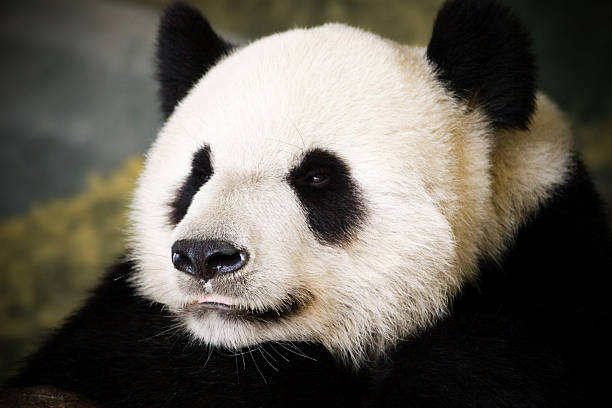panda: (99, 3, 592, 399)
